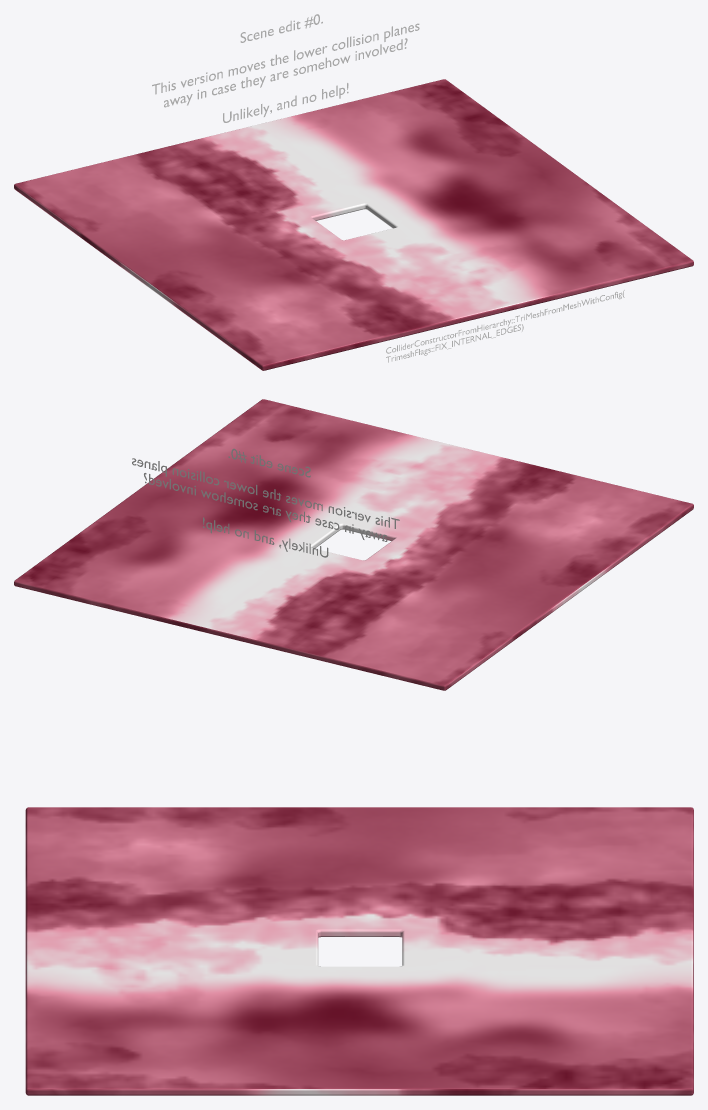
Rendered from level_0_edit_0.glb.
3 renders of one model, top to bottom at view 1: azimuth 30°, elevation 25°; view 2: azimuth 150°, elevation 25°; view 3: azimuth 270°, elevation 25°, orthographic. The views are drawn at different scales.
Visible parts, largest first — view 1: Floor.013, Text.013, Text.014; view 2: Floor.013, Text.013; view 3: Floor.013.
Boxes of the visible parts, x1,y1,x2,y2 form: Floor.013: (14, 79, 693, 370); Text.013: (152, 14, 419, 122); Text.014: (386, 290, 624, 362); Floor.013: (14, 399, 693, 690); Text.013: (132, 448, 399, 557); Floor.013: (25, 807, 693, 1095).
Size of what is drawn, in the model's own units: 29.71 by 10.88 by 30.24.
2 materials, 1 textured.
